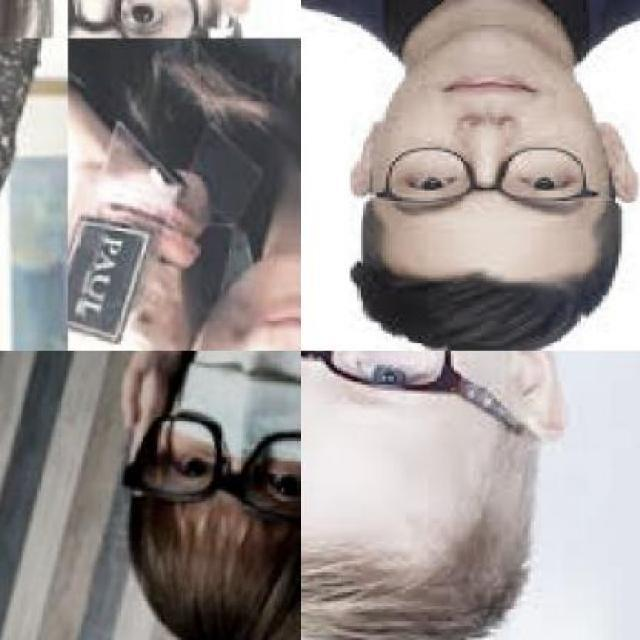glasses: (104, 411, 300, 534), (362, 132, 600, 216), (300, 351, 480, 397), (67, 0, 250, 38)
